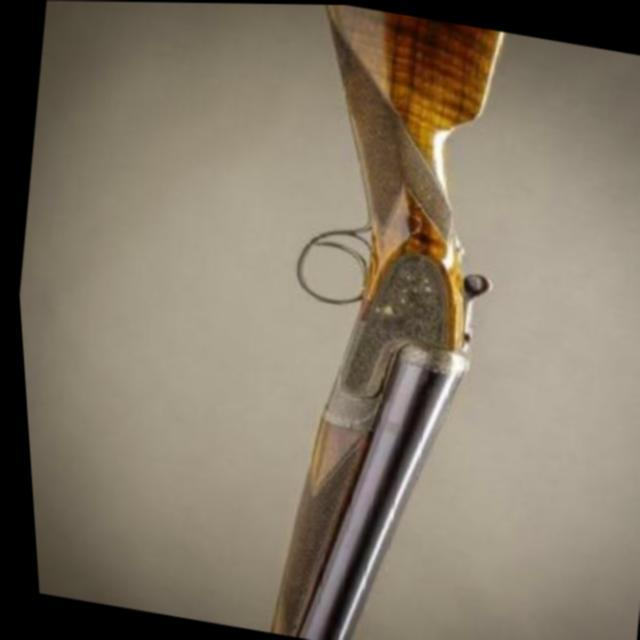weapon: (208, 2, 547, 640)
